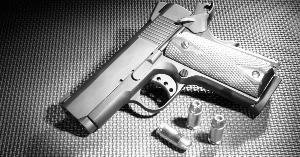handgun: (45, 0, 273, 147)
